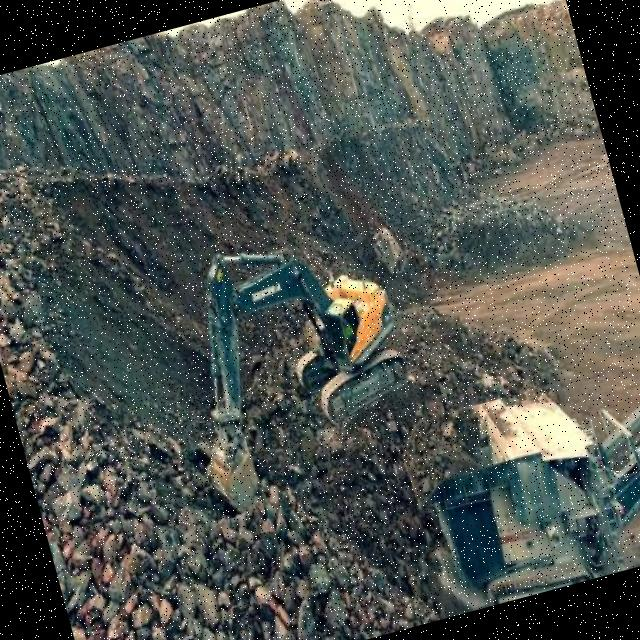Excavator: (150, 207, 437, 528)
